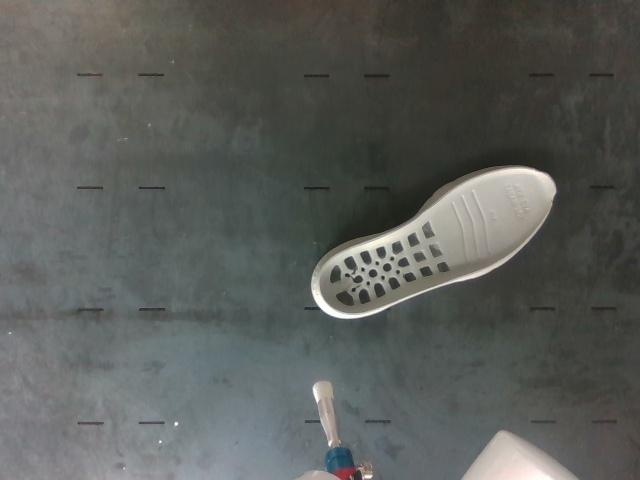shoes: (319, 169, 554, 314)
